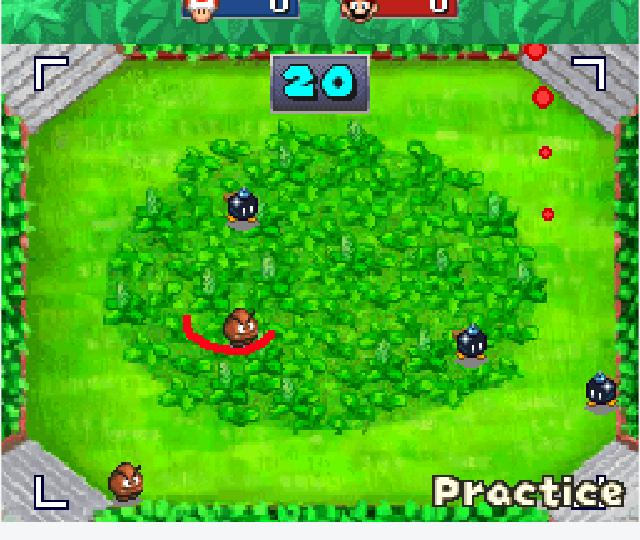bomb: (220, 182, 261, 229), (450, 323, 494, 365), (582, 371, 624, 411)
goomba: (105, 460, 148, 506), (220, 305, 261, 349)
